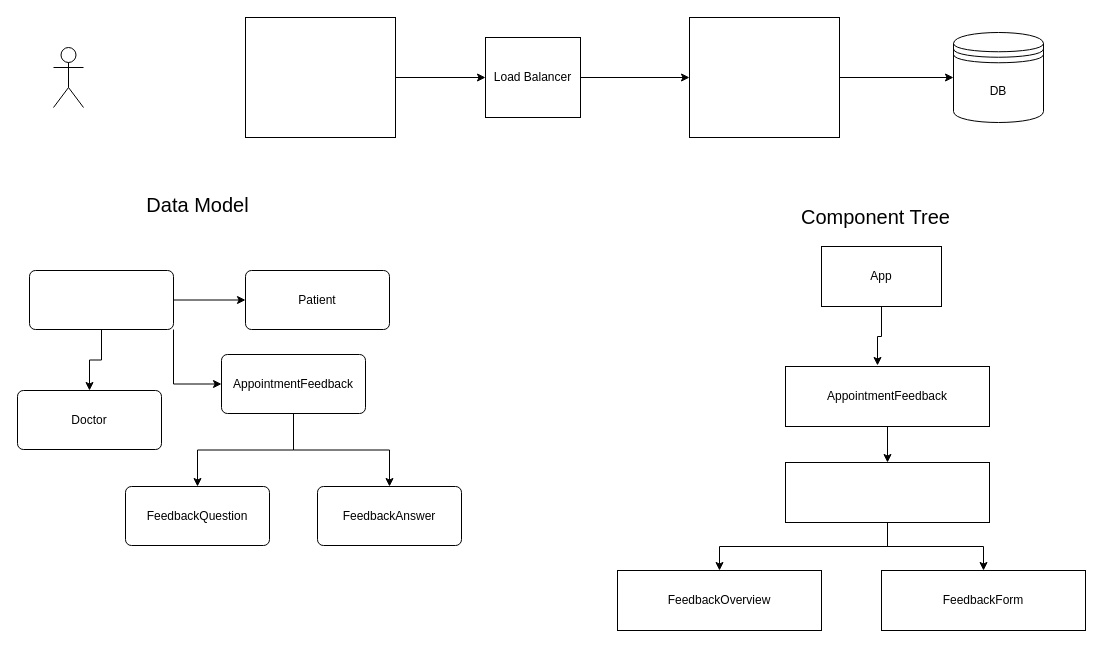
Image size: 1103x648. Some labels were removed from this diagram. The centre of each missing label's shape, as x and y in pixels:
Actor: point (68, 77)
Appointment: point (101, 300)
AppointmentFeedbackWizard: point (887, 492)
Web App: point (320, 77)
Web Server (API): point (764, 77)
